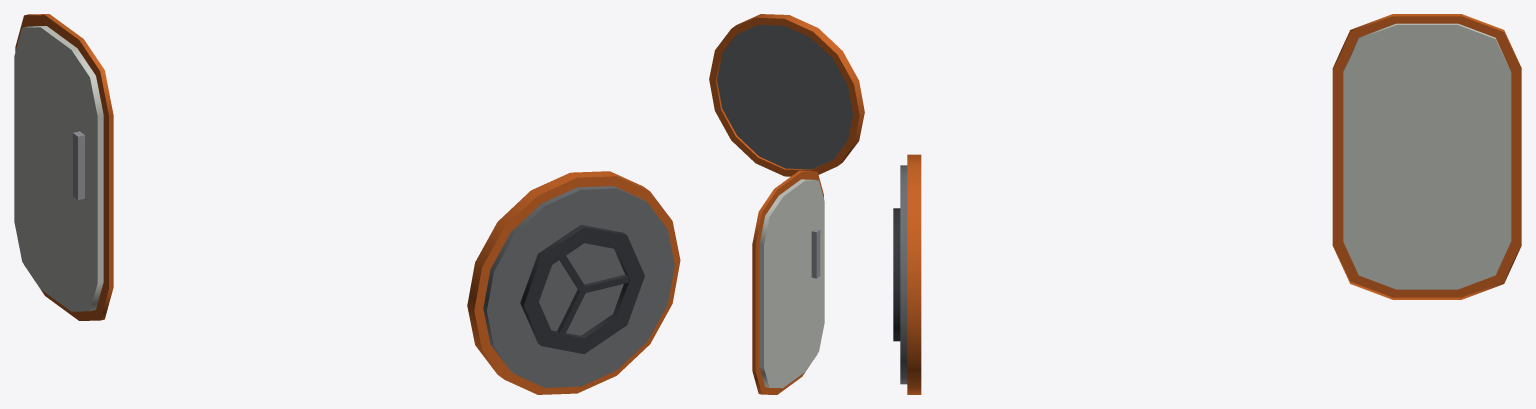
File: p20_hatch.obj
The picture shows the model from 3 angles, left to right: view 1: azimuth 30°, elevation 25°; view 2: azimuth 150°, elevation 25°; view 3: azimuth 270°, elevation 25°; orthographic projection. The views are drawn at different scales.
Parts seen in each view (by area): view 1: p20_hatch; view 2: p20_hatch; view 3: p20_hatch.
Boxes of the visible parts, x1,y1,x2,y2 form: p20_hatch: (14,14,680,394); p20_hatch: (709,14,864,394); p20_hatch: (893,14,1521,394).
Size of the model in its own units: 2.46 by 1.77 by 3.56.
